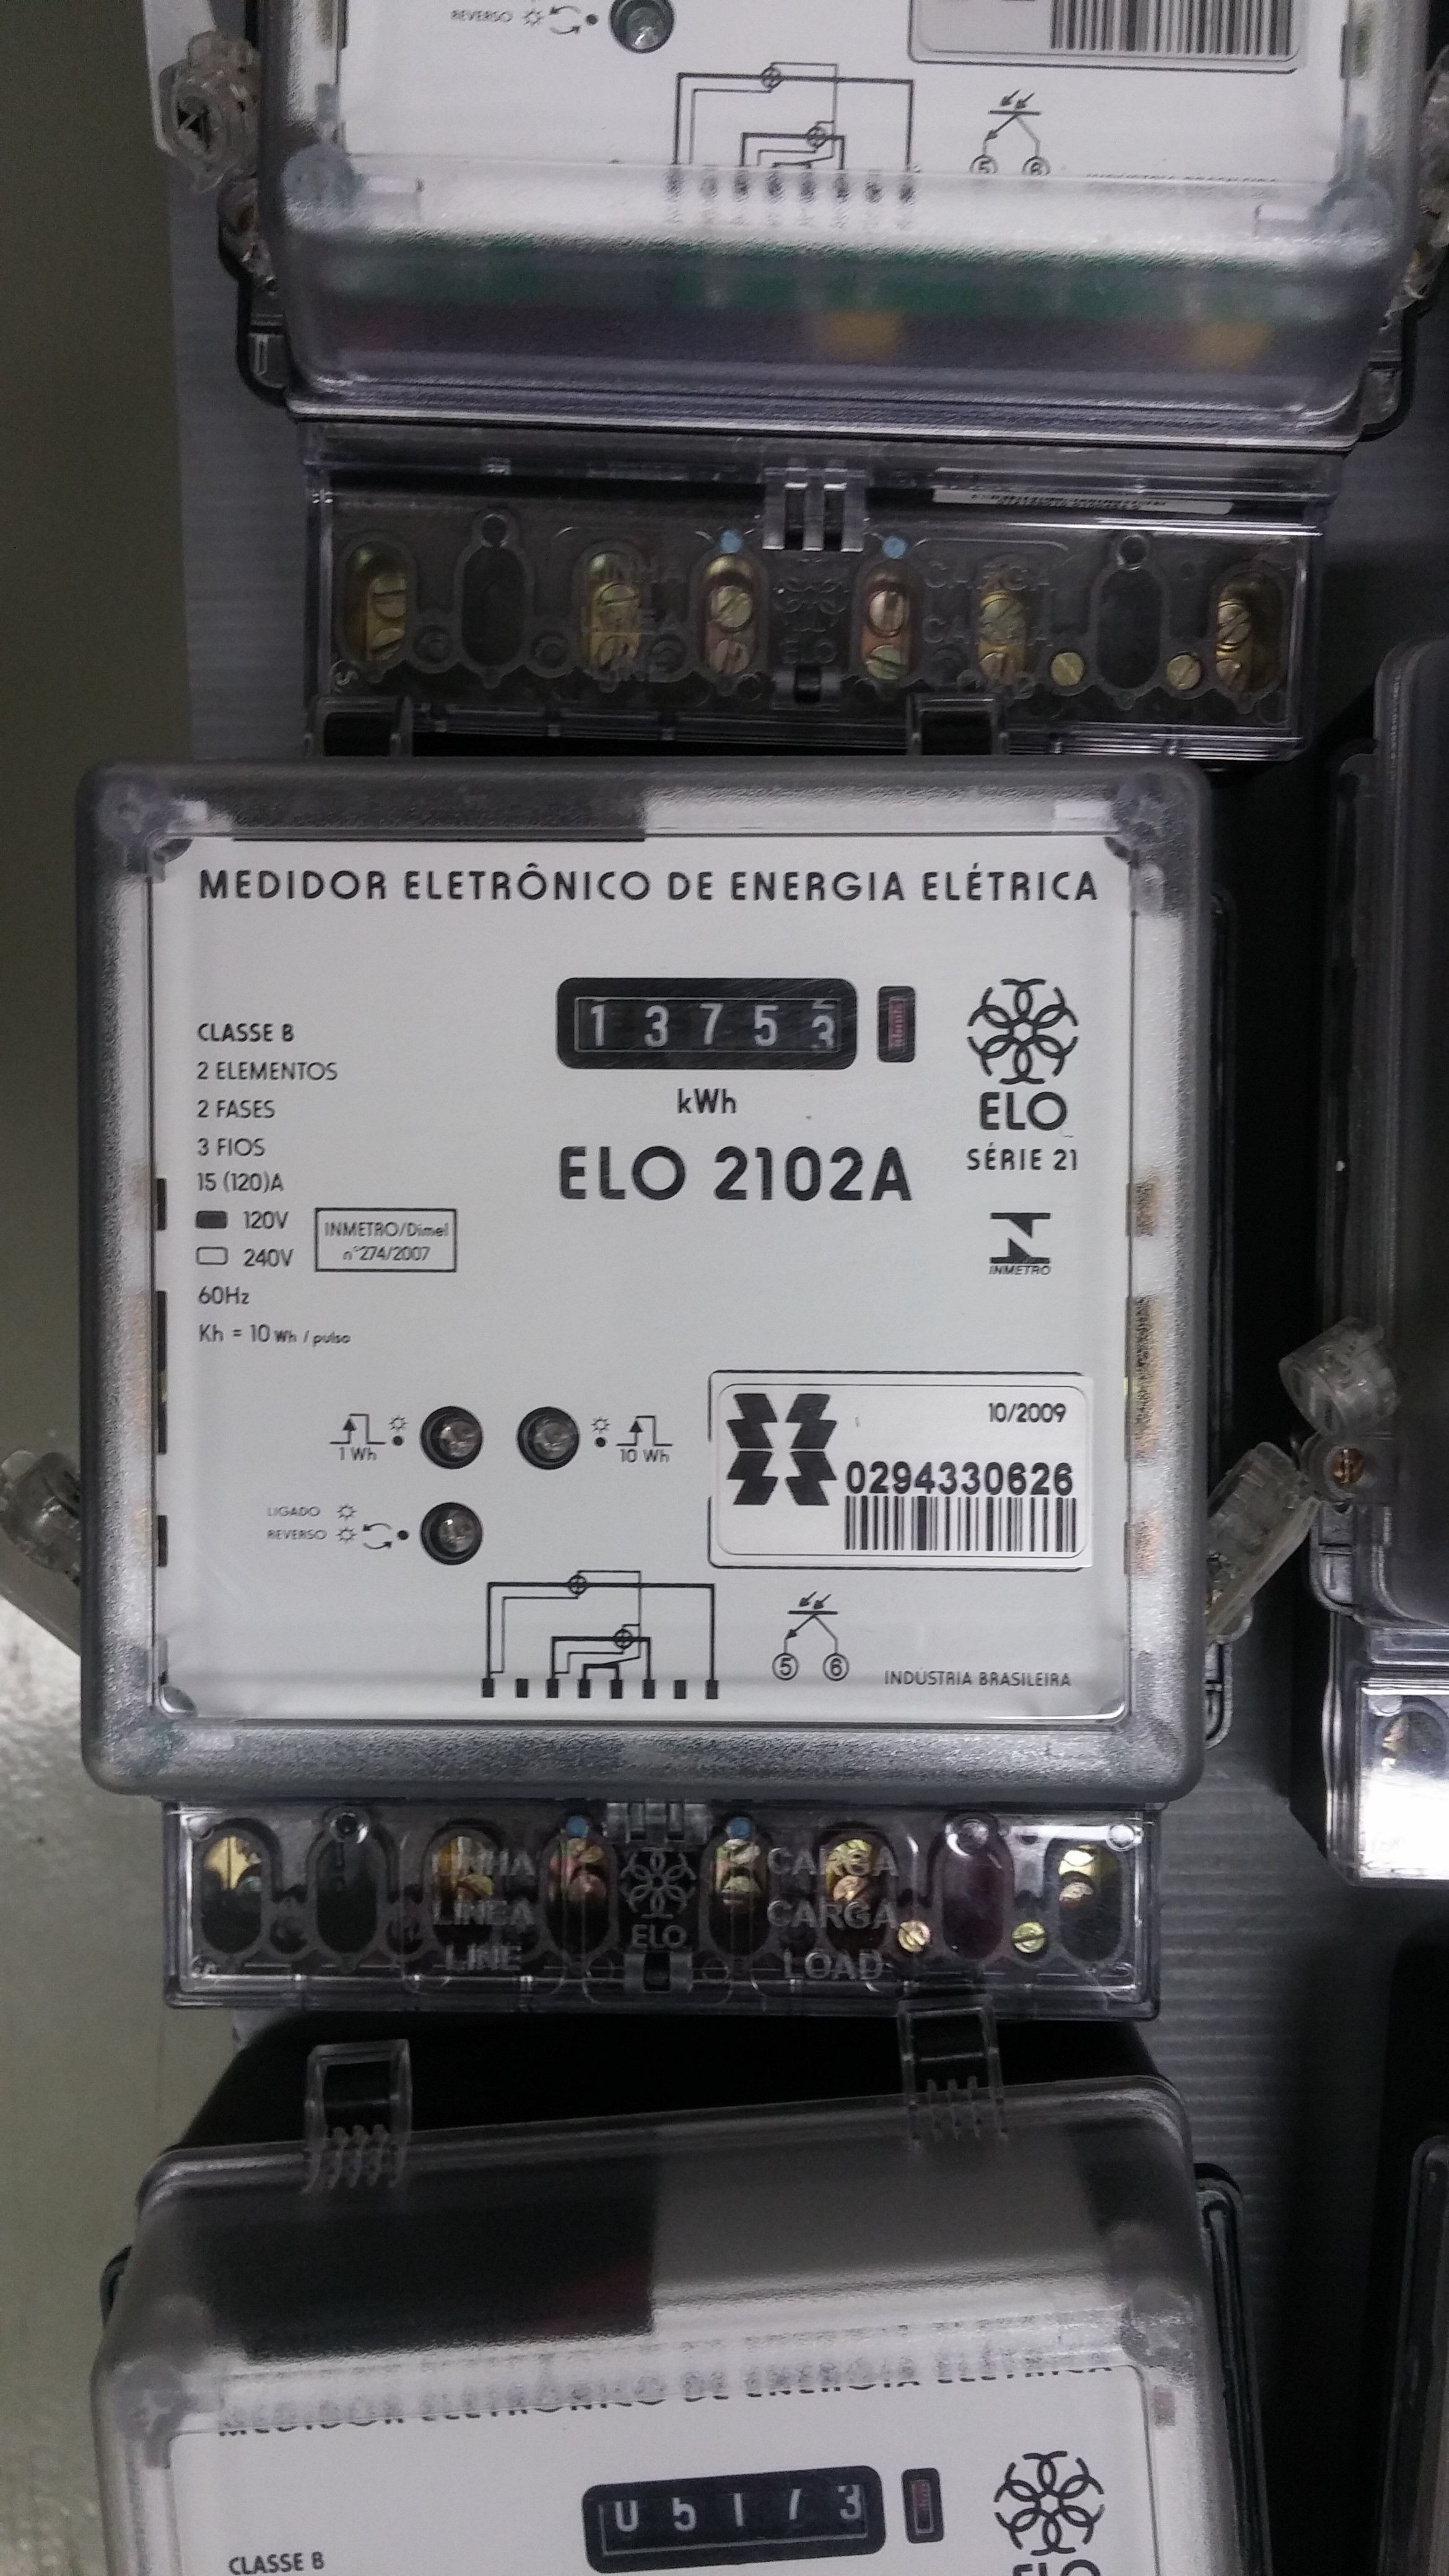counter2: (554, 966, 872, 1083)
